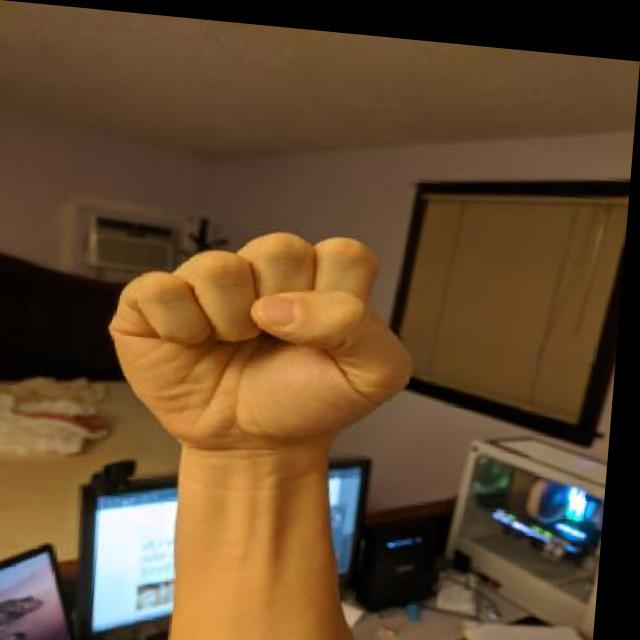S: (100, 207, 434, 465)
